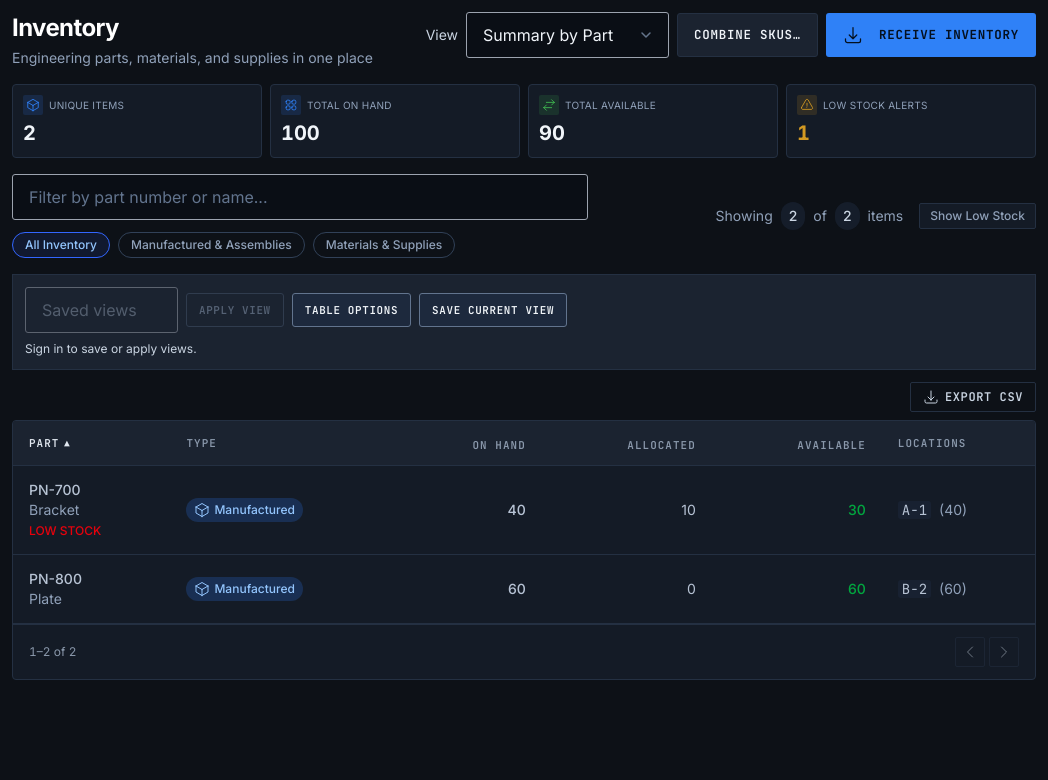
Scenario: toggling Show Low Stock surfaces the low-stock chip in the toolbar
Expected: the text "Showing 1 low stock" is not shown
Click the button "Show Low Stock" at (978, 216), box [919,203,1036,229]
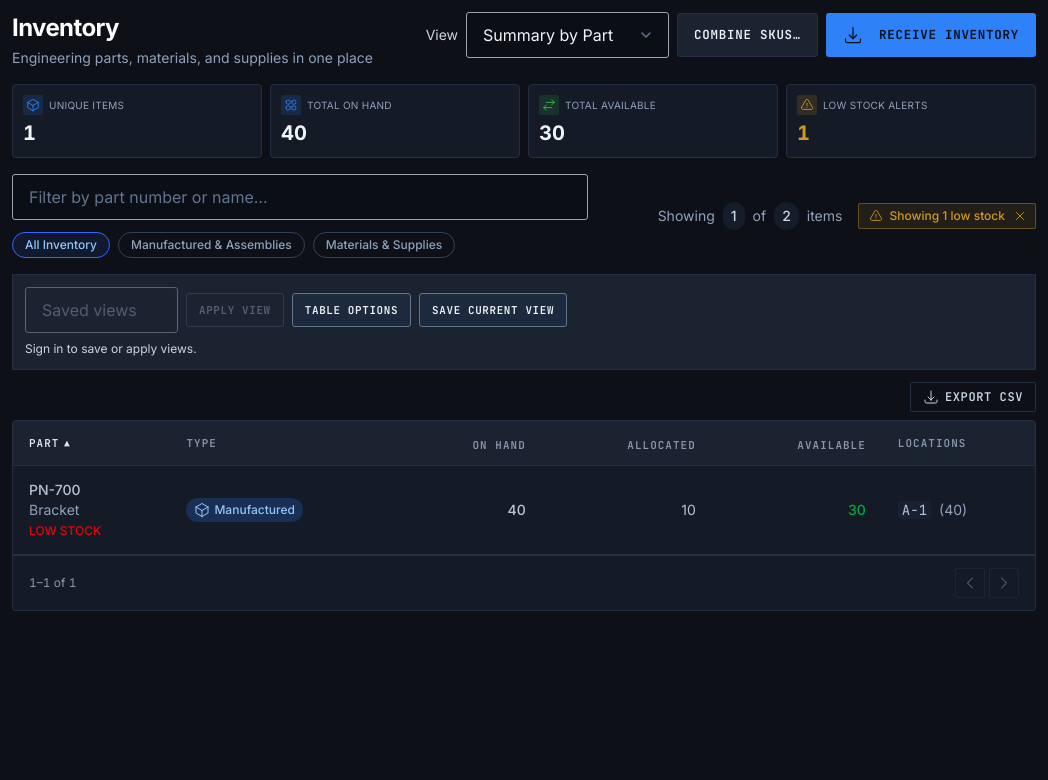
Expected: the text "Showing 1 low stock" is shown, [858,203,1036,229]
Expected: the button "Show Low Stock" is gone
Expected: the button named "Clear low stock filter" is shown, [1013,209,1027,223]
